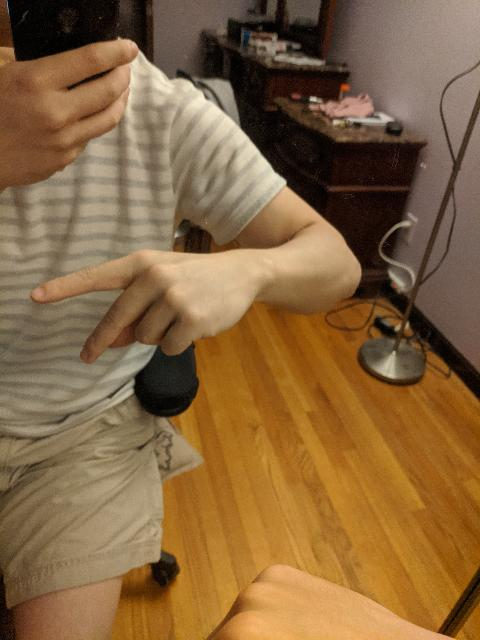P: (27, 245, 255, 368)
